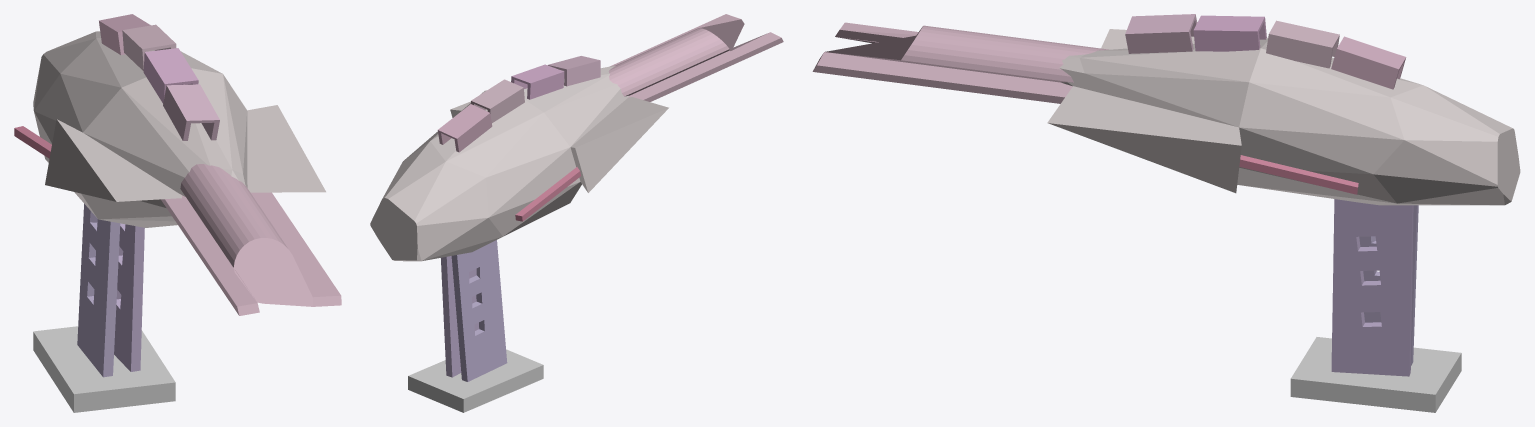
File: space_gun_2_centered.fbx
The picture shows the model from 3 angles, left to right: view 1: azimuth 30°, elevation 25°; view 2: azimuth 150°, elevation 25°; view 3: azimuth 270°, elevation 25°; orthographic projection. The views are drawn at different scales.
Visible parts, largest first — view 1: gun, tip, surface, legs, legs_001, top_002, top, top_001, top_003, Cube; view 2: gun, tip, legs, surface, legs_001, top_003, top_001, top, top_002, Cube; view 3: gun, tip, legs_001, surface, top_002, top, top_001, top_003, Cube, legs.
Boxes of the visible parts, x1,y1,x2,y2 form: gun: (33, 31, 325, 227); tip: (161, 164, 341, 315); surface: (33, 326, 175, 412); legs: (77, 203, 120, 377); legs_001: (114, 223, 144, 371); top_002: (163, 84, 219, 140); top: (143, 48, 198, 103); top_001: (122, 24, 176, 70); top_003: (99, 14, 150, 55); Cube: (14, 126, 51, 158); gun: (370, 65, 668, 261); tip: (608, 14, 783, 101); legs: (451, 240, 507, 381); surface: (408, 349, 543, 412); legs_001: (441, 256, 479, 377); top_003: (437, 104, 492, 152); top_001: (471, 79, 524, 122); top: (511, 64, 564, 99); top_002: (548, 56, 600, 86); Cube: (515, 167, 581, 221); gun: (1047, 29, 1520, 205); tip: (812, 22, 1108, 103); legs_001: (1331, 199, 1413, 376); surface: (1290, 337, 1461, 412); top_002: (1125, 14, 1197, 53); top: (1193, 15, 1266, 51); top_001: (1266, 20, 1339, 68); top_003: (1331, 36, 1406, 89); Cube: (1239, 155, 1358, 194); legs: (1359, 205, 1418, 365).
Size of the model in its own units: 1.81 by 2.57 by 4.57.
